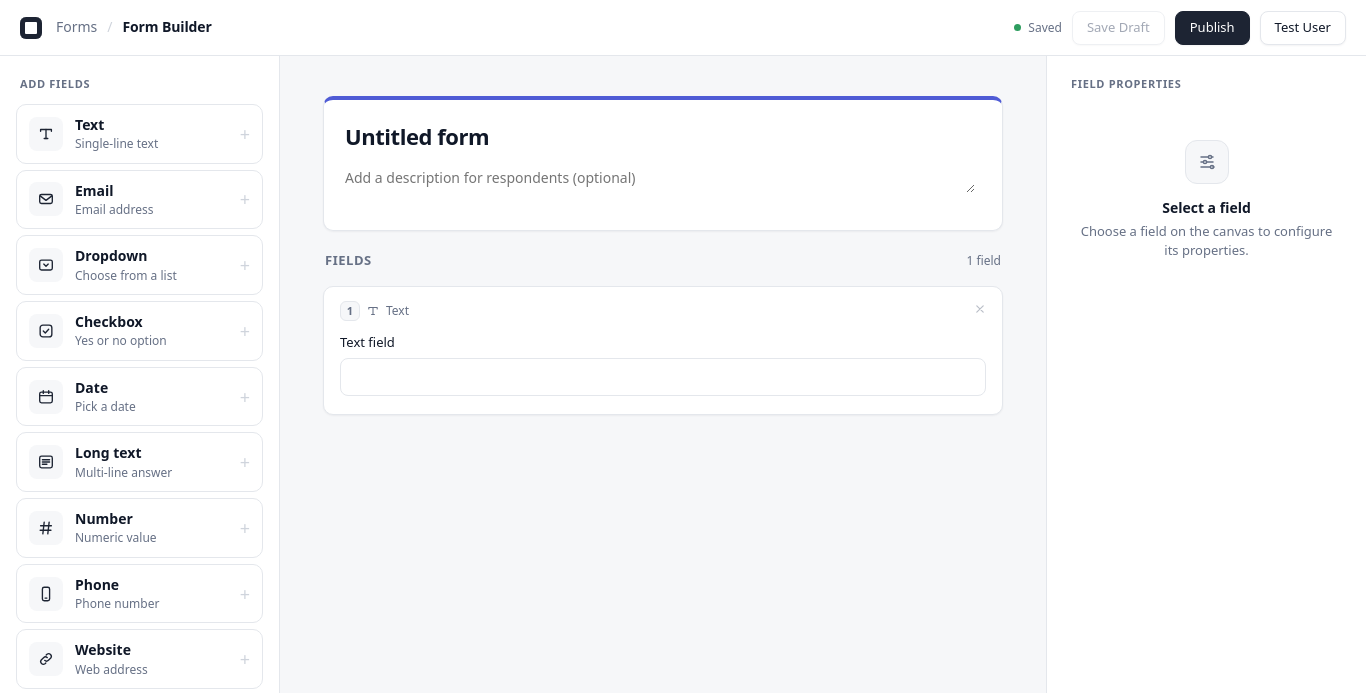
Save Draft › shows Saving... and ignores a second click while the request runs
Click the button with aria-label "Add Email field".
click(140, 199)  # box [16,170,263,229]
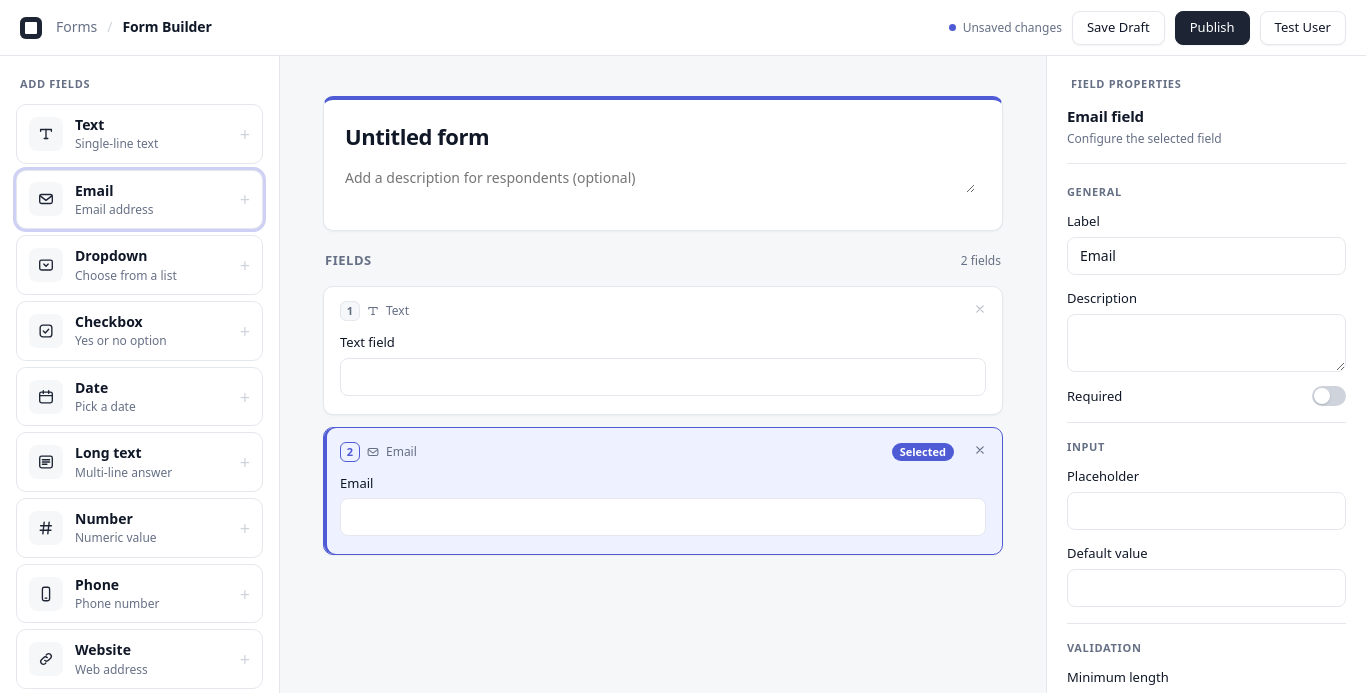
Click the button "Save Draft".
click(1118, 28)  # box [1072,10,1165,44]
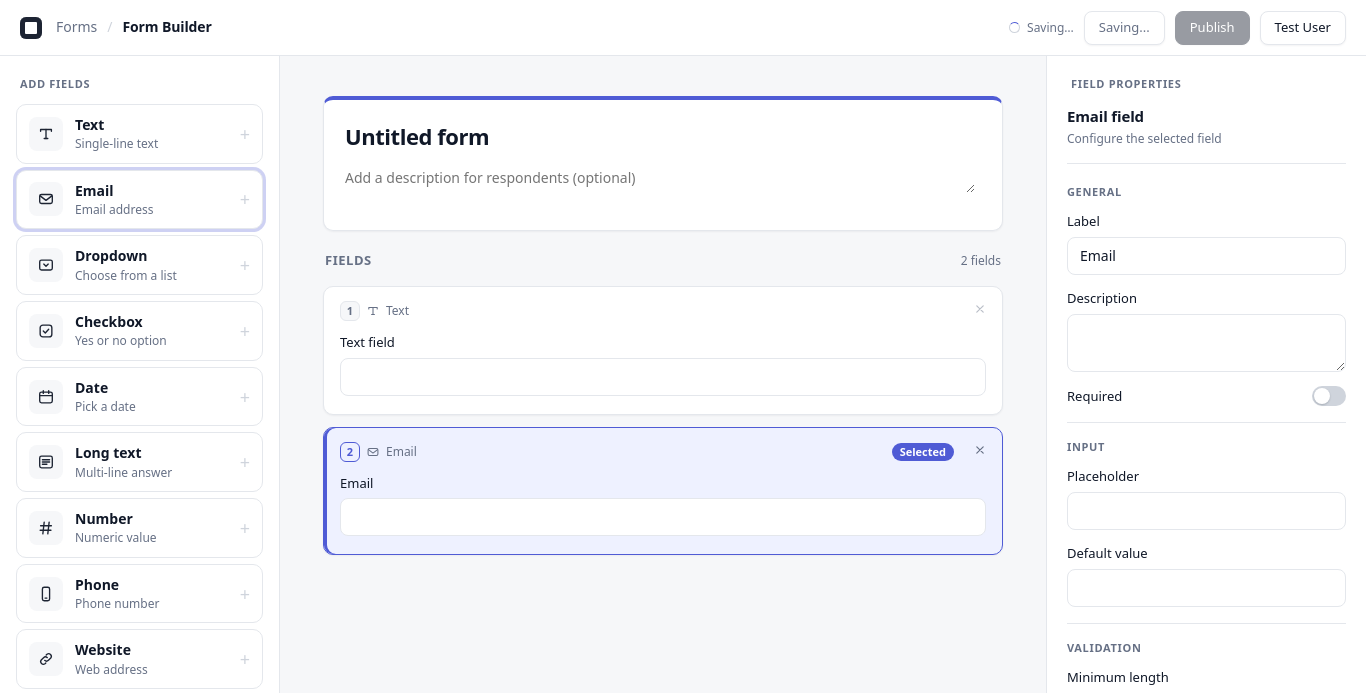
Click the button "Saving...".
click(1124, 28)  # box [1084,10,1165,44]
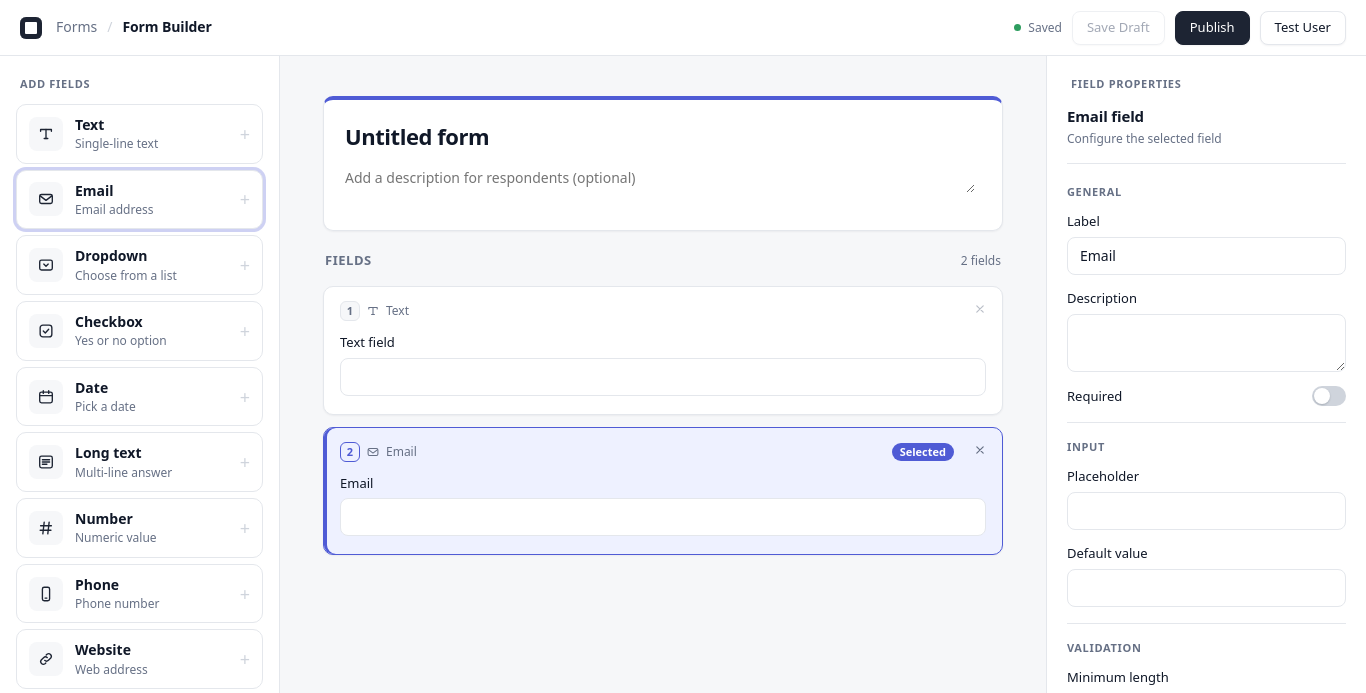
Check: the button named "Saving..." is shown, box [1072,10,1165,44]
Check: the text "Saved" is shown, box [1028,19,1062,36]
